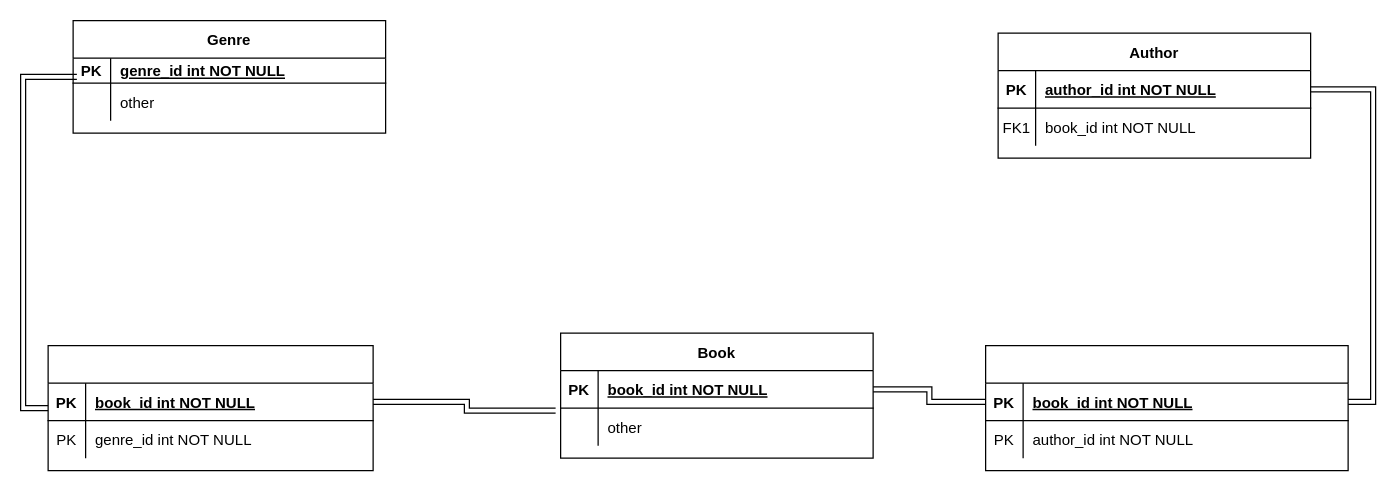
The diagram is 1396 pixels wide and 491 high, and some of its shapes have lost their labels. The box of each missing label's shape, as (x1, y1, x2, y2) in pixels:
book_author: (984, 344, 1348, 471)
book_genre: (47, 344, 373, 471)
